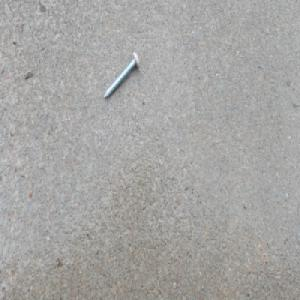Nail: (102, 51, 139, 102)
